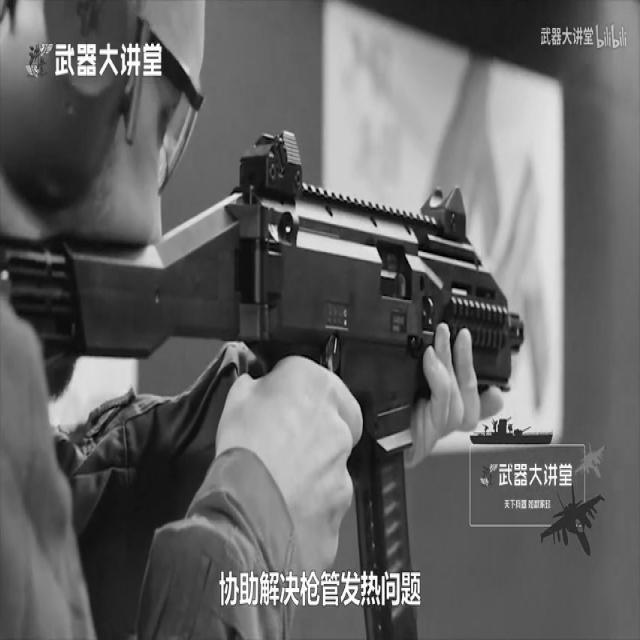Rifle: (0, 108, 533, 640)
